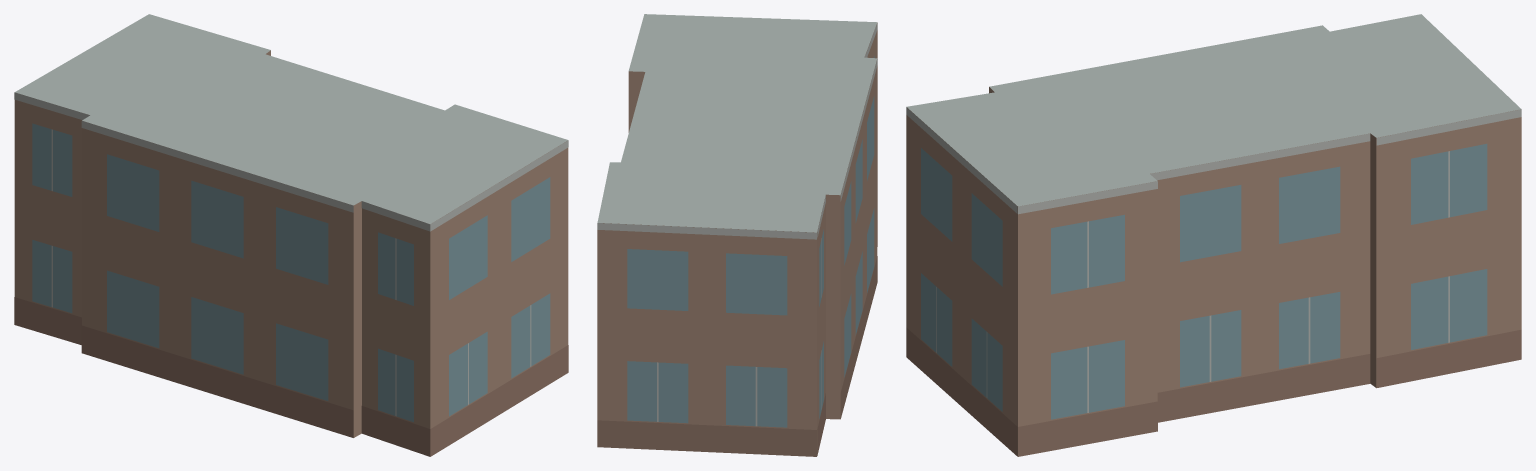
Rendered from survey-upis-32748215.glb.
3 renders of one model, left to right at view 1: azimuth 30°, elevation 25°; view 2: azimuth 150°, elevation 25°; view 3: azimuth 270°, elevation 25°, orthographic. The views are drawn at different scales.
Parts seen in each view (by area): view 1: survey-upis-32748215.tmp; view 2: survey-upis-32748215.tmp; view 3: survey-upis-32748215.tmp.
Boxes of the visible parts, x1,y1,x2,y2 form: survey-upis-32748215.tmp: [14, 14, 568, 456]; survey-upis-32748215.tmp: [597, 14, 877, 456]; survey-upis-32748215.tmp: [906, 14, 1521, 456].
Bounding box in the file's own units: 12.87 × 7.8 × 17.38.
